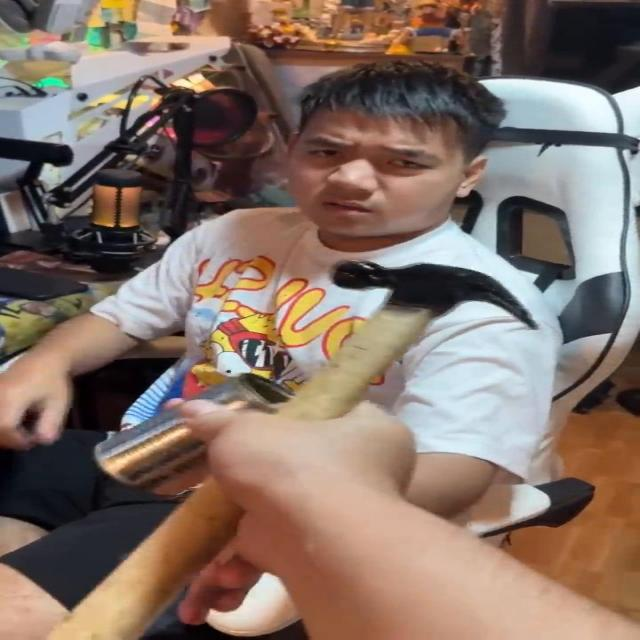hammer: (44, 255, 545, 640)
